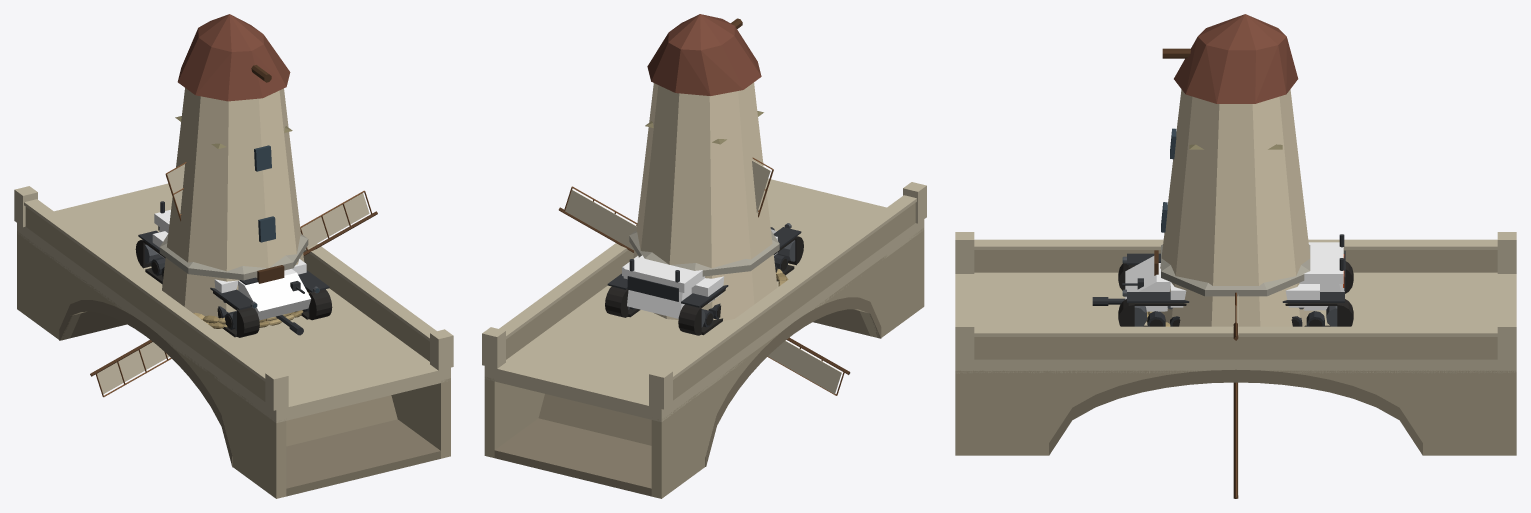
File: military.glb
3 views of the same model, side by side, from view 1: azimuth 30°, elevation 25°; view 2: azimuth 150°, elevation 25°; view 3: azimuth 270°, elevation 25° (orthographic). The views are drawn at different scales.
Visible parts, largest first — view 1: p_bridge_LOD0, p_windmill_body_LOD0, p_tank_hull_LOD0, p_windmill_sails_LOD0, p_bunker_LOD0; view 2: p_bridge_LOD0, p_windmill_body_LOD0, p_tank_hull_LOD0, p_windmill_sails_LOD0, p_bunker_LOD0; view 3: p_bridge_LOD0, p_windmill_body_LOD0, p_tank_hull_LOD0, p_bunker_LOD0, p_windmill_sails_LOD0.
Boxes of the visible parts, <box> form: p_bridge_LOD0: <box>14,183,453,498</box>; p_windmill_body_LOD0: <box>162,14,304,320</box>; p_tank_hull_LOD0: <box>135,201,332,337</box>; p_windmill_sails_LOD0: <box>90,162,377,397</box>; p_bunker_LOD0: <box>159,234,308,328</box>; p_bridge_LOD0: <box>482,178,926,498</box>; p_windmill_body_LOD0: <box>633,14,777,320</box>; p_tank_hull_LOD0: <box>605,223,803,335</box>; p_windmill_sails_LOD0: <box>558,157,850,395</box>; p_bunker_LOD0: <box>629,230,788,286</box>; p_bridge_LOD0: <box>955,232,1516,455</box>; p_windmill_body_LOD0: <box>1154,14,1316,326</box>; p_tank_hull_LOD0: <box>1118,234,1353,326</box>; p_bunker_LOD0: <box>1146,244,1310,326</box>; p_windmill_sails_LOD0: <box>1233,292,1238,498</box>.
Bounding box in the file's own units: 11.51 × 16.35 × 18.
